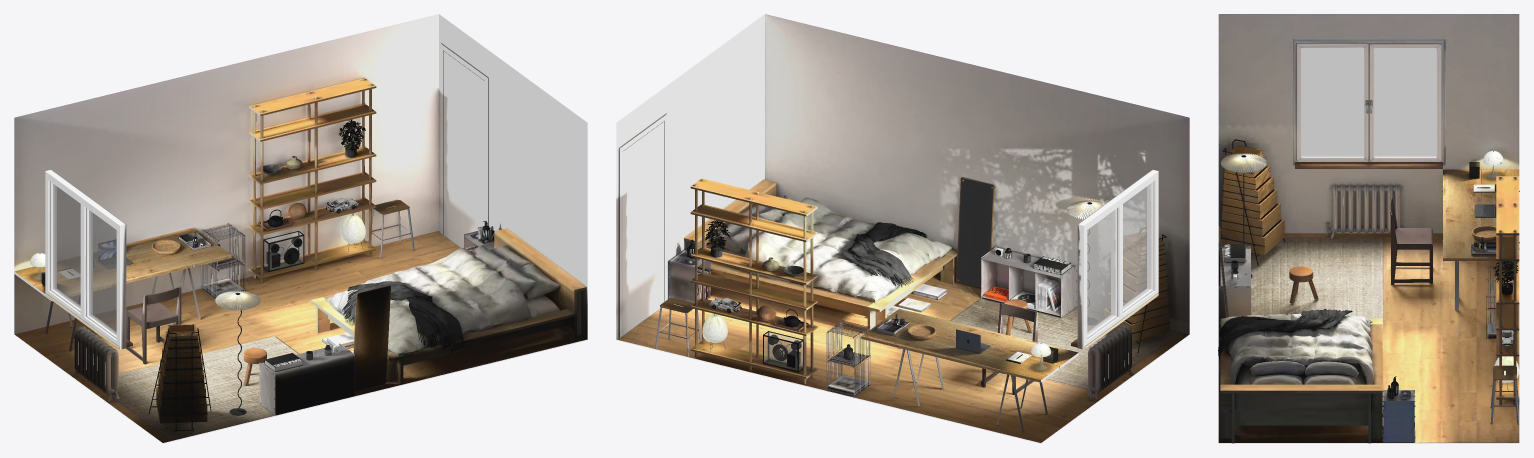
File: compressed_alt6.glb
3 views of the same model, side by side, from view 1: azimuth 30°, elevation 25°; view 2: azimuth 150°, elevation 25°; view 3: azimuth 270°, elevation 25° (orthographic).
Parts seen in each view (by area): view 1: alt6.001; view 2: alt6.001; view 3: alt6.001.
Boxes of the visible parts, <box> form: alt6.001: <box>14,14,587,443</box>; alt6.001: <box>616,14,1189,443</box>; alt6.001: <box>1218,14,1519,443</box>.
Size of the model in its own units: 5.28 by 2.55 by 3.16.
7 materials, 5 textured.
